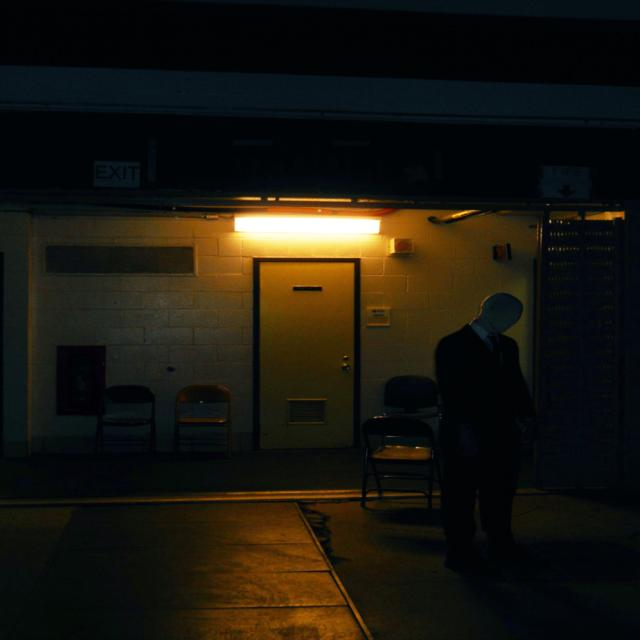People: (428, 288, 583, 565)
chair: (366, 400, 442, 532), (86, 368, 169, 467), (176, 364, 251, 451)
